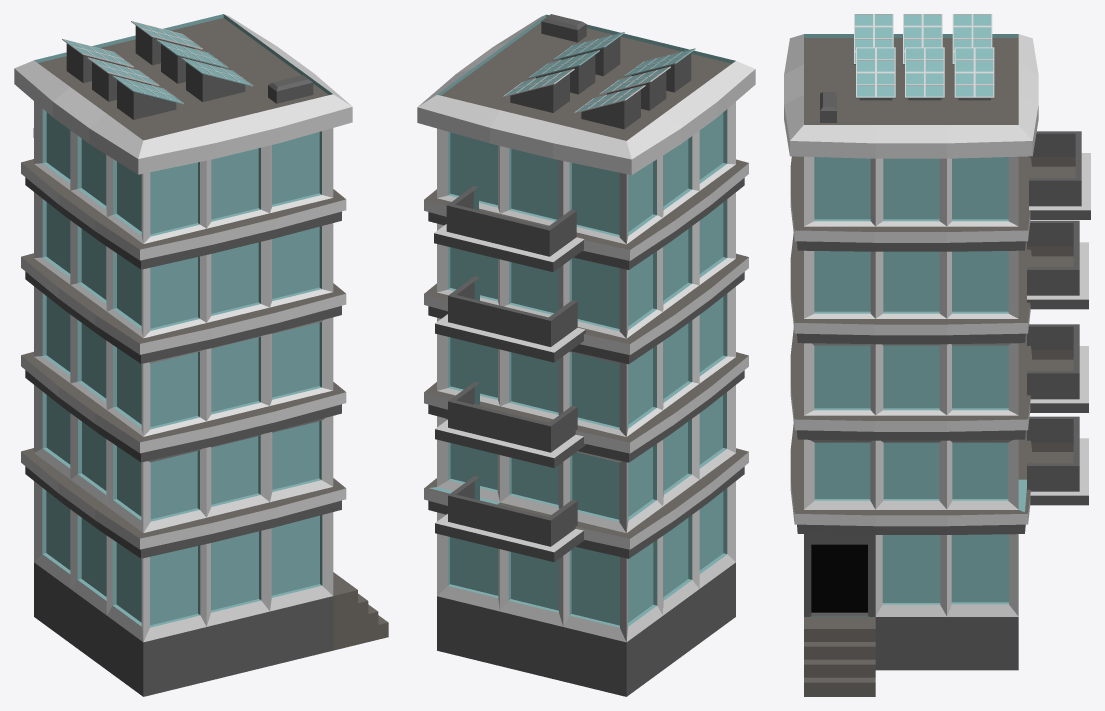
File: Building1.fbx
3 views of the same model, side by side, from view 1: azimuth 30°, elevation 25°; view 2: azimuth 150°, elevation 25°; view 3: azimuth 270°, elevation 25° (orthographic). The views are drawn at different scales.
Parts seen in each view (by area): view 1: Building2; view 2: Building2; view 3: Building2.
Boxes of the visible parts, bbox=[...] form: Building2: bbox=[14, 14, 388, 696]; Building2: bbox=[417, 14, 755, 696]; Building2: bbox=[784, 14, 1090, 696].
Size of what is drawn, in the model's own units: 283 by 601 by 292.
